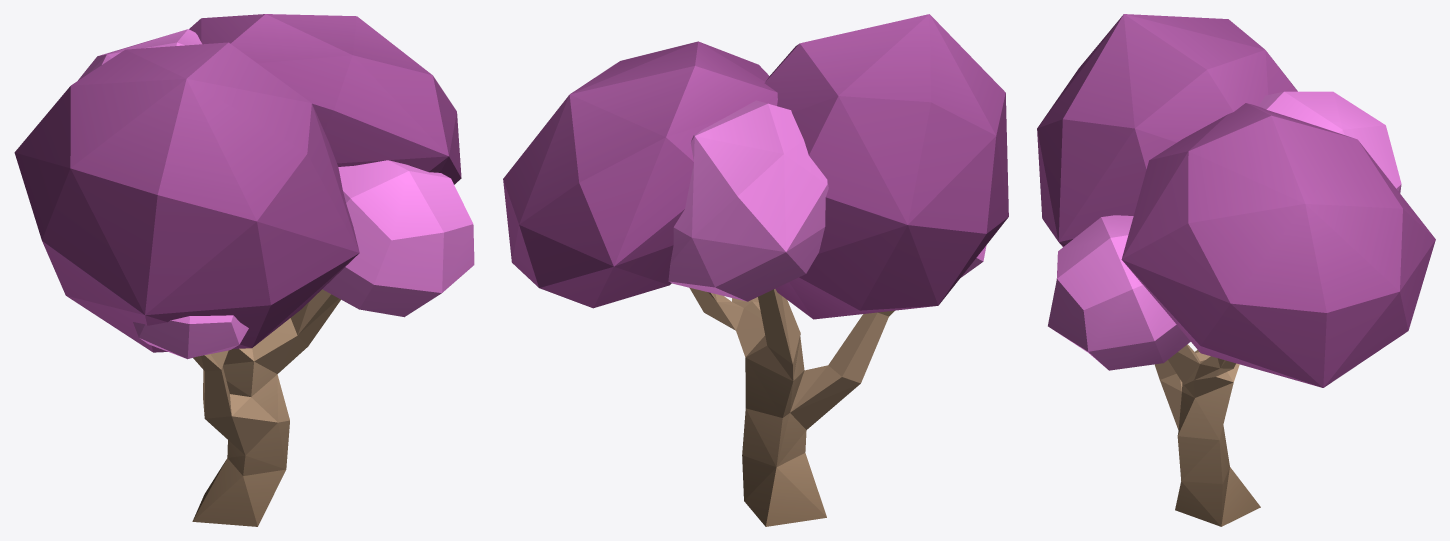
The model's file is SpringTree1.fbx.
3 views of the same model, side by side, from view 1: azimuth 30°, elevation 25°; view 2: azimuth 150°, elevation 25°; view 3: azimuth 270°, elevation 25° (orthographic). The views are drawn at different scales.
Visible parts, largest first — view 1: SpringTree1; view 2: SpringTree1; view 3: SpringTree1.
Part boxes in pixels (x1=…): SpringTree1: x1=14, y1=14, x2=474, y2=526; SpringTree1: x1=503, y1=14, x2=1008, y2=526; SpringTree1: x1=1037, y1=14, x2=1435, y2=526.
Size of the model in its own units: 484 by 530 by 424.
